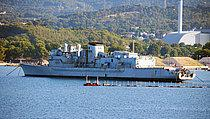MIL_Ship: (19, 40, 196, 82)
